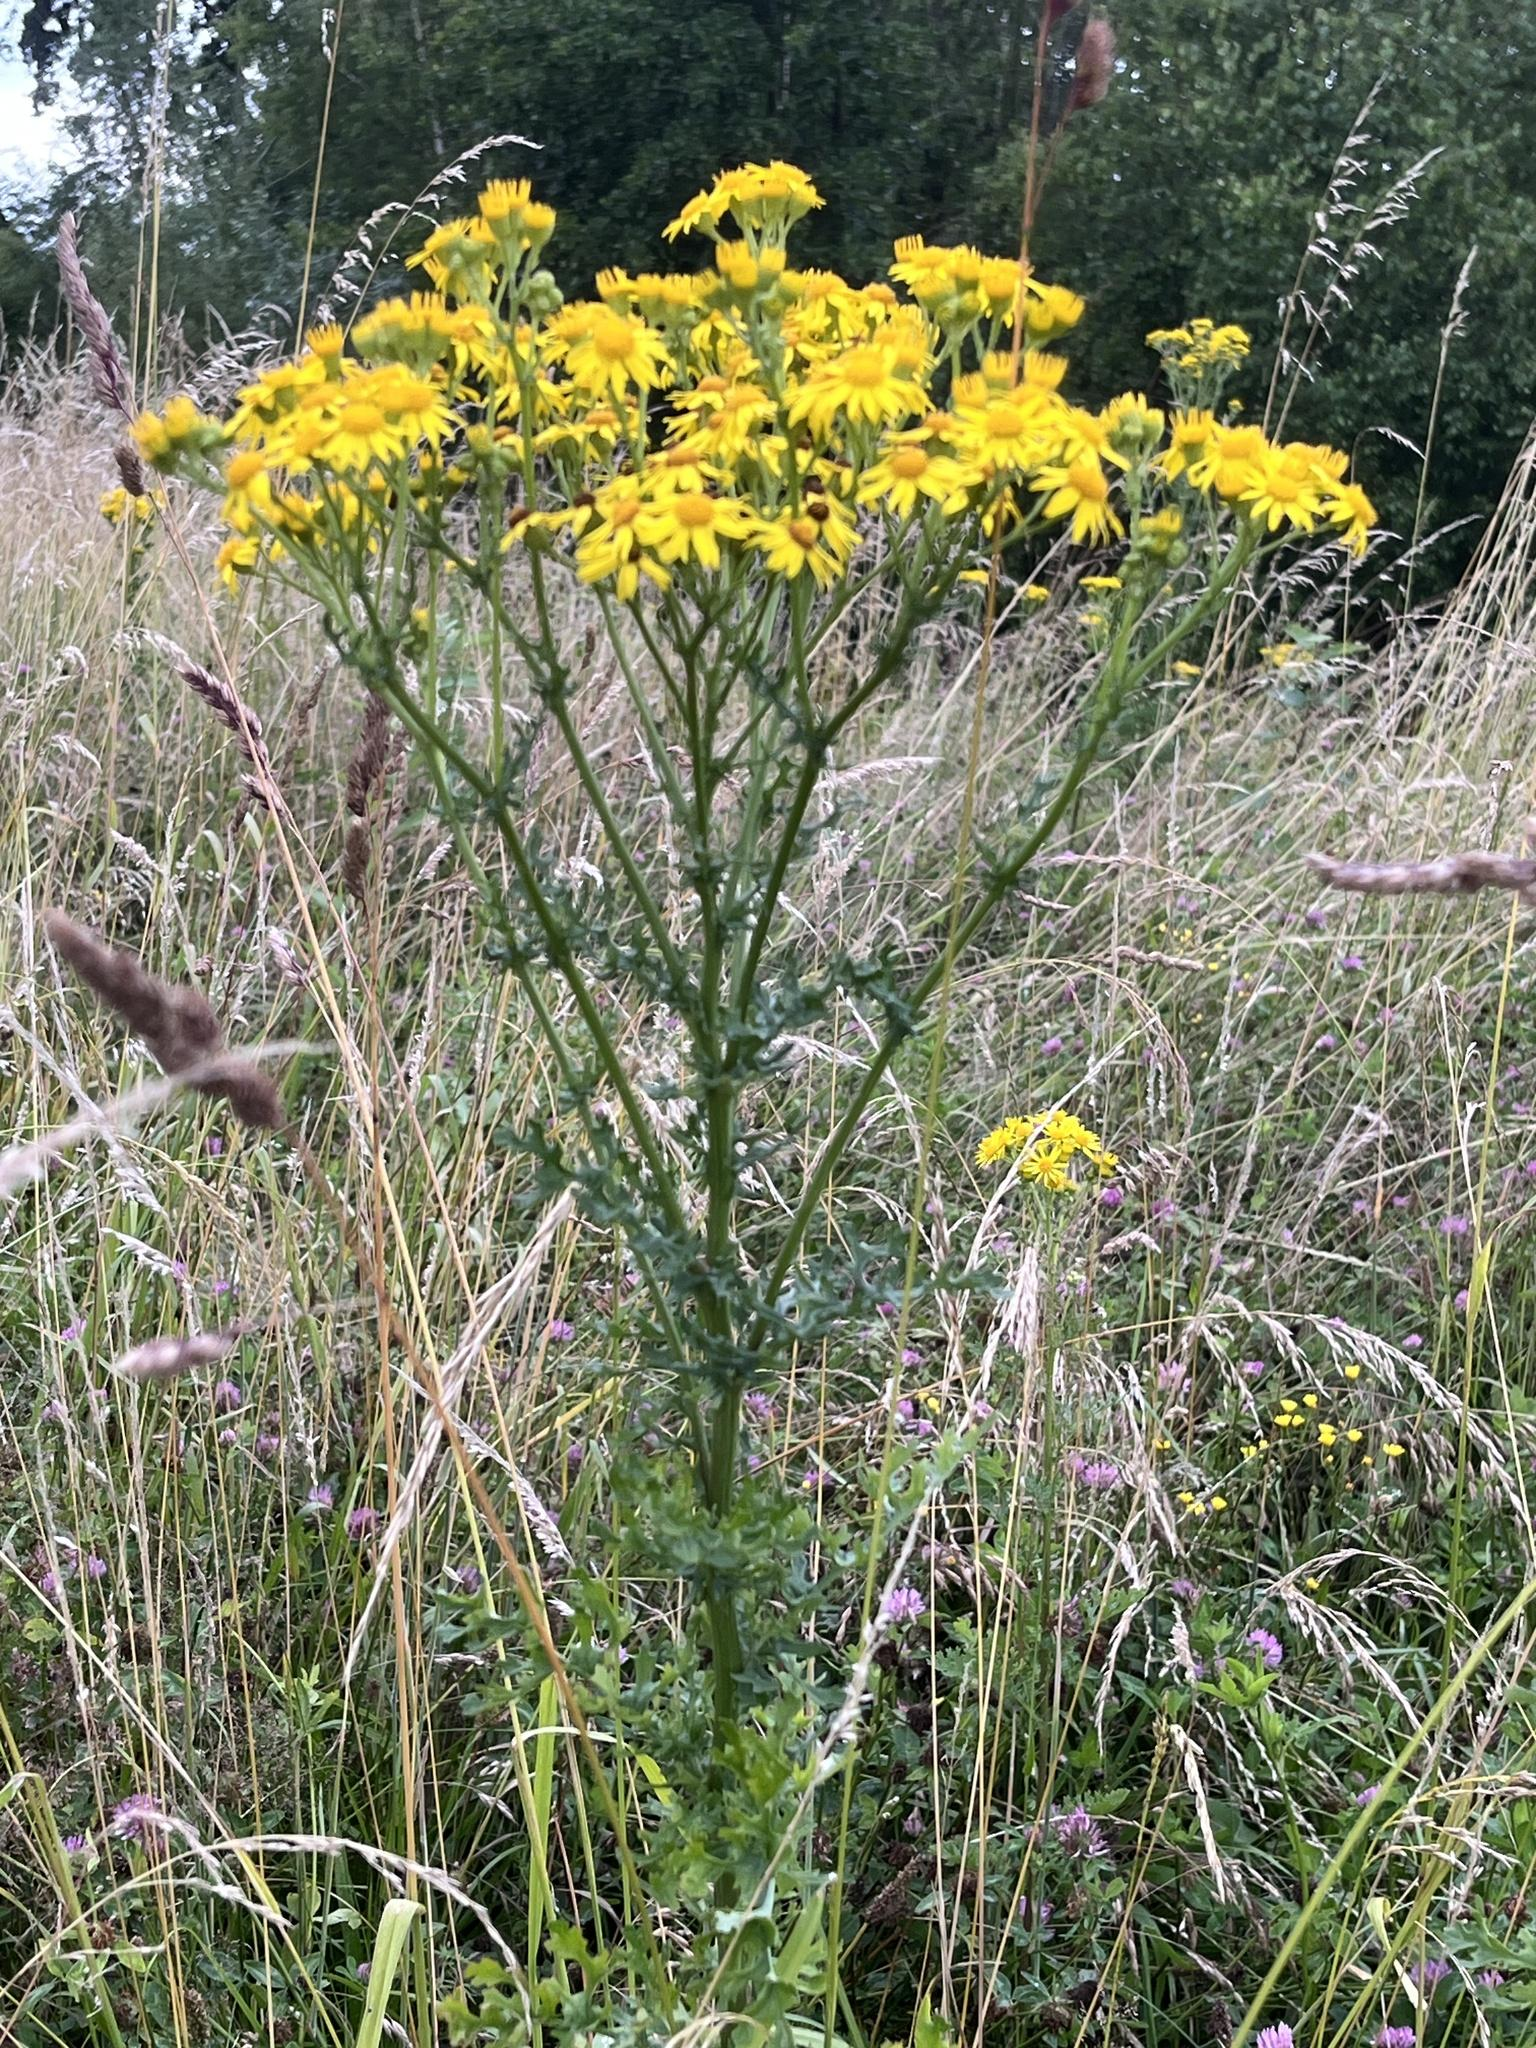Jacobaea vulgaris: (94, 116, 1394, 2048)
